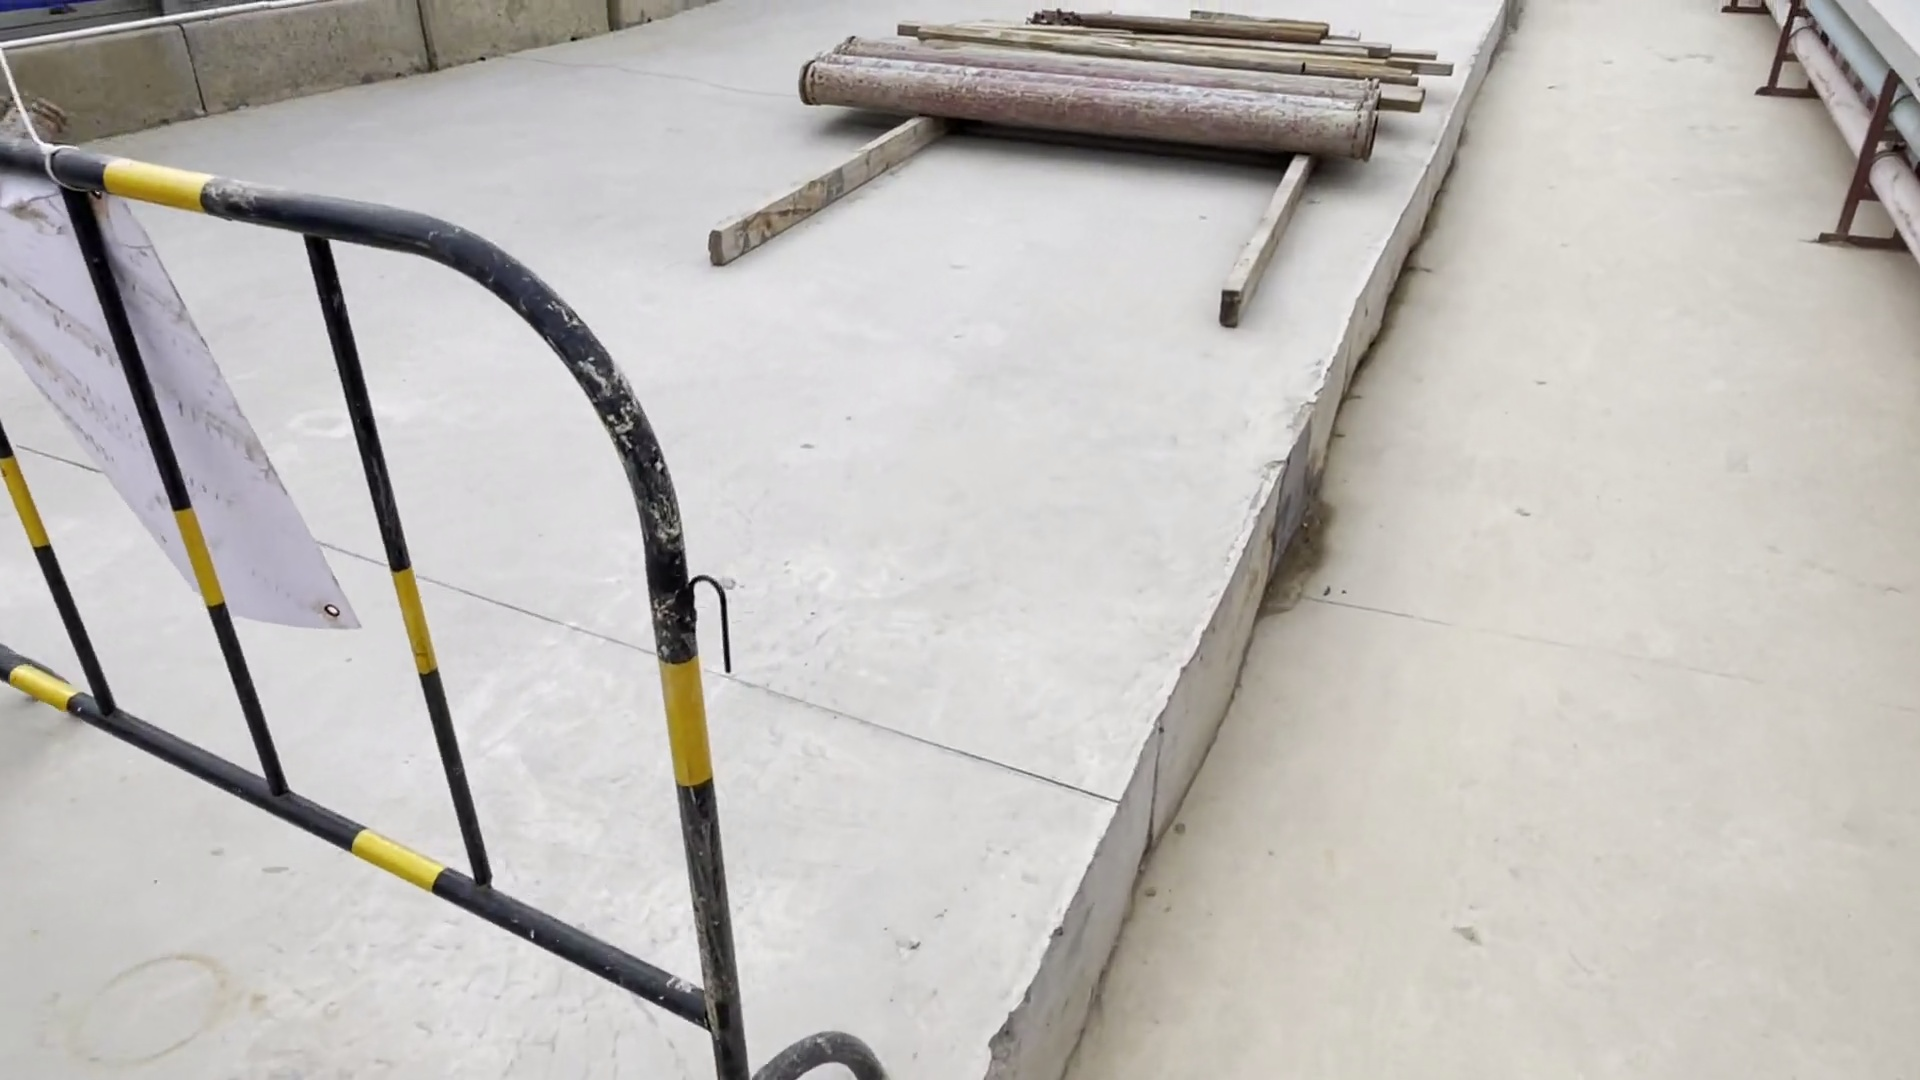fence: (1, 132, 884, 1080)
